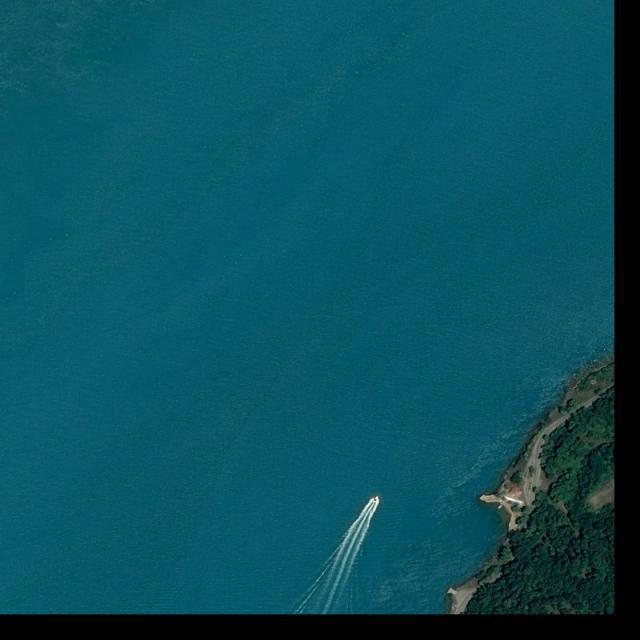ship: (373, 494, 380, 504)
